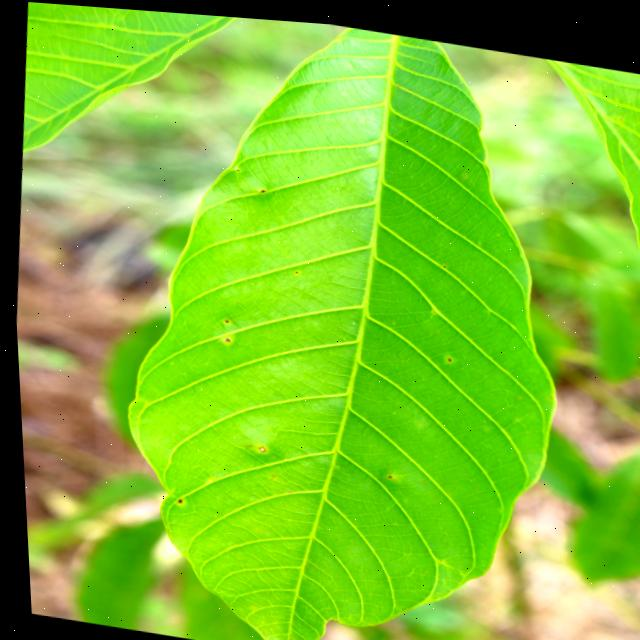Colletotrichum: (252, 442, 260, 448)
